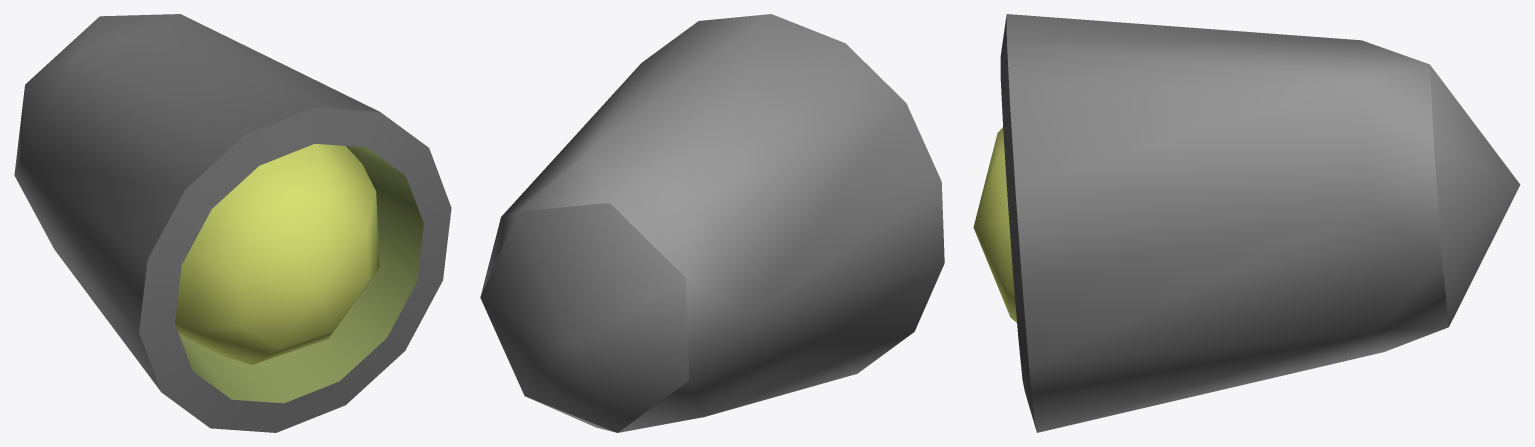
Rendered from DJStageLightGreen_14.glb.
3 renders of one model, left to right at view 1: azimuth 30°, elevation 25°; view 2: azimuth 150°, elevation 25°; view 3: azimuth 270°, elevation 25°, orthographic. The views are drawn at different scales.
Visible parts, largest first — view 1: DJStageLightGreen; view 2: DJStageLightGreen; view 3: DJStageLightGreen.
Part boxes in pixels (x1,y1,x2,y2): DJStageLightGreen: (14, 14, 451, 432); DJStageLightGreen: (480, 14, 944, 432); DJStageLightGreen: (973, 14, 1520, 432).
Bounding box in the file's own units: 0.2405 × 0.2416 × 0.3158.
